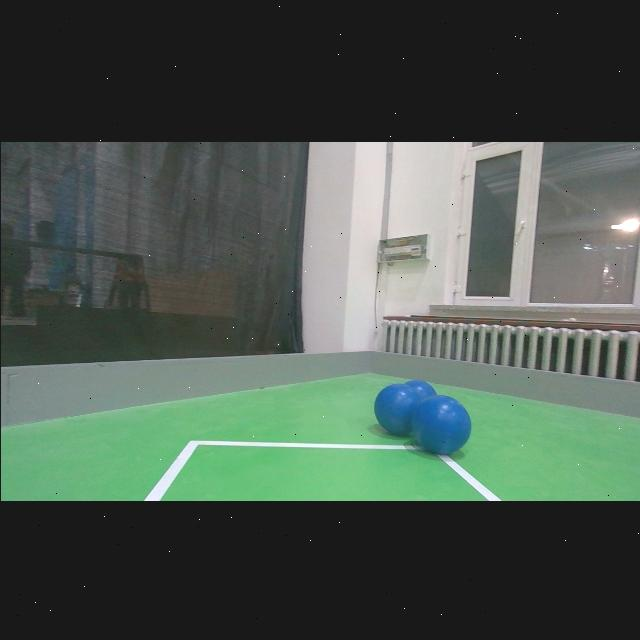B: (410, 394, 470, 454), (397, 374, 441, 420), (372, 391, 418, 427)
